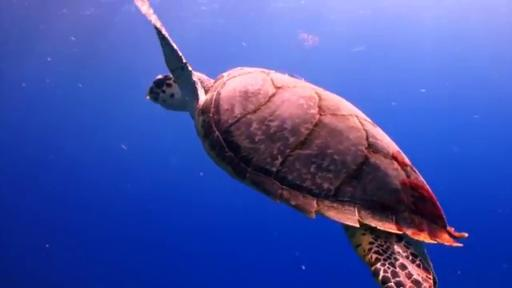Fish: (136, 0, 467, 287)
